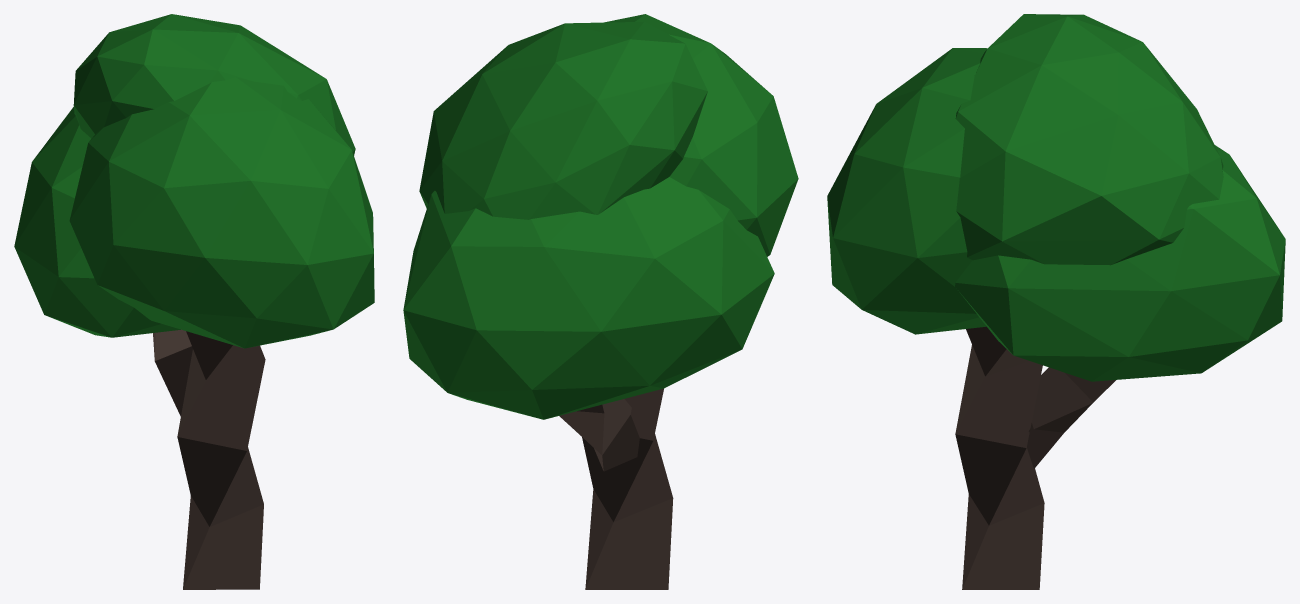
Rendered from tree.glb.
3 renders of one model, left to right at view 1: azimuth 30°, elevation 25°; view 2: azimuth 150°, elevation 25°; view 3: azimuth 270°, elevation 25°, orthographic. The views are drawn at different scales.
Visible parts, largest first — view 1: Icosphere, Cube.002; view 2: Icosphere, Cube.002; view 3: Icosphere, Cube.002.
Part boxes in pixels (<box>): Icosphere: <box>14,14,374,348</box>; Cube.002: <box>153,329,265,589</box>; Icosphere: <box>403,14,798,419</box>; Cube.002: <box>559,388,673,589</box>; Icosphere: <box>827,14,1285,381</box>; Cube.002: <box>955,326,1115,589</box>.
Bounding box in the file's own units: 8.67 × 15.53 × 11.82.
